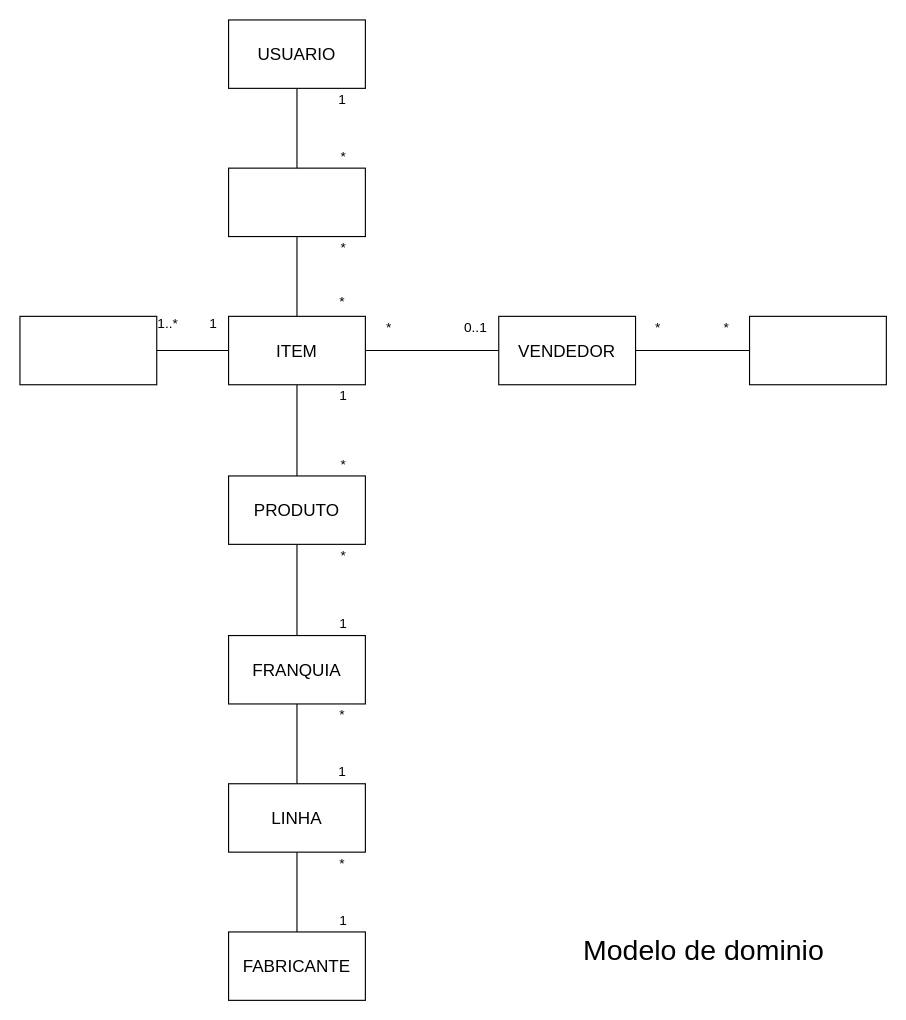
Image size: 906x1020. Some labels were removed from this diagram. Each missing label, with the centre of its shape:
"COLEÇÃO" belongs at point (296, 202).
"ITENS" belongs at point (88, 350).
"LOJA" belongs at point (817, 350).
